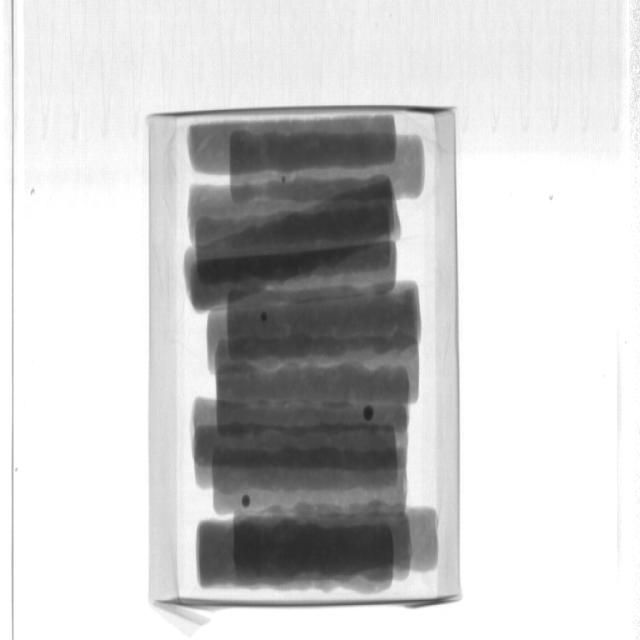ym: (363, 406, 374, 422), (261, 310, 269, 326), (244, 495, 253, 508), (283, 177, 288, 183)
